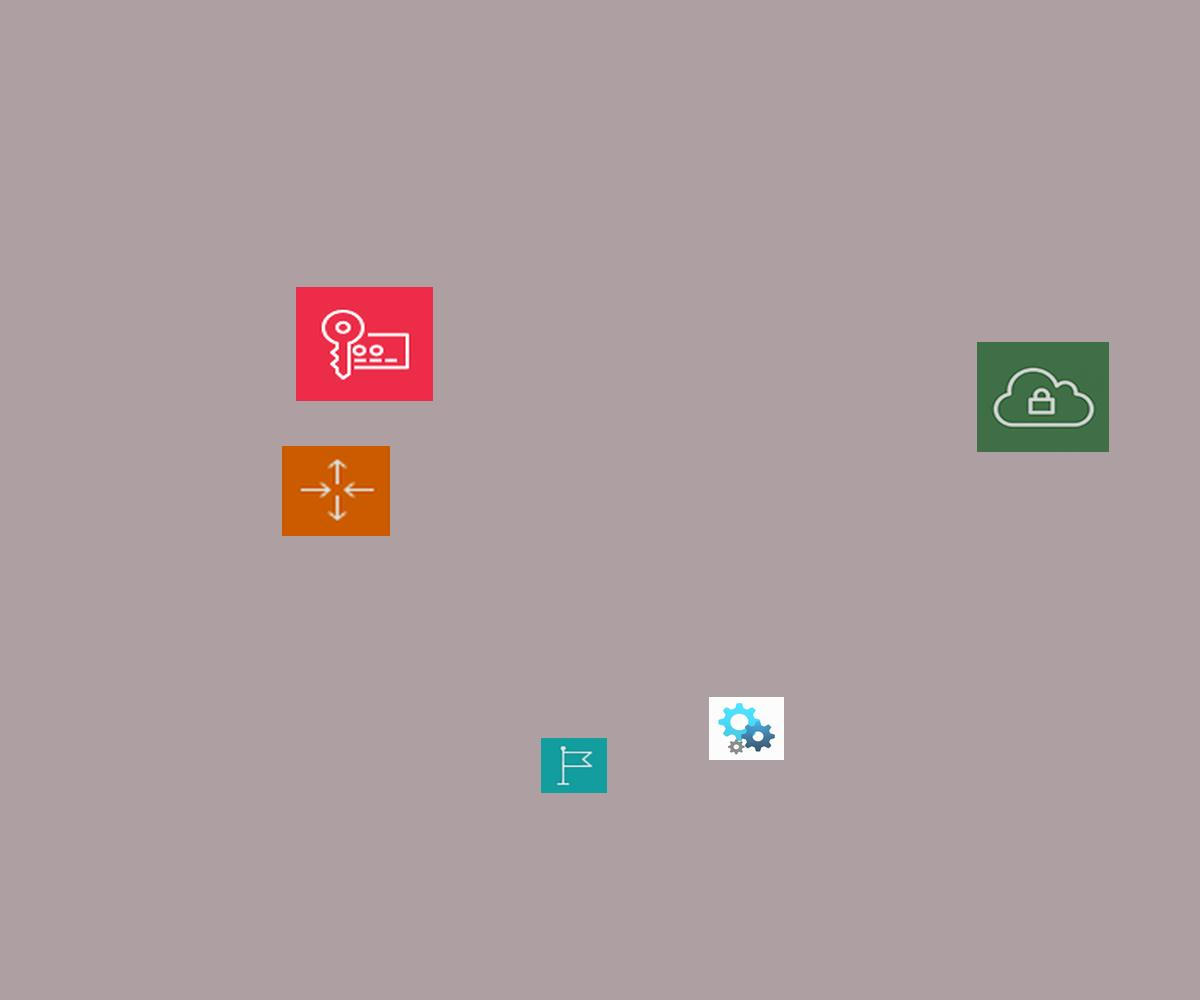AWS-Key-Management-Service: (296, 287, 433, 401)
AWS-Private_vpc: (977, 342, 1109, 452)
AWS-Region: (541, 738, 607, 793)
AWS-Scaling-group: (282, 446, 390, 536)
Azure_api: (709, 697, 784, 760)
